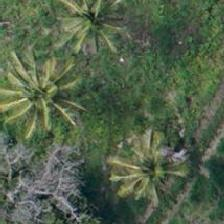Kelapa_Sawit: (103, 119, 193, 209), (0, 47, 82, 137), (42, 0, 132, 61)
